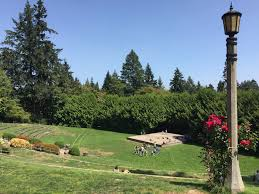light_pole: (220, 8, 250, 190)
